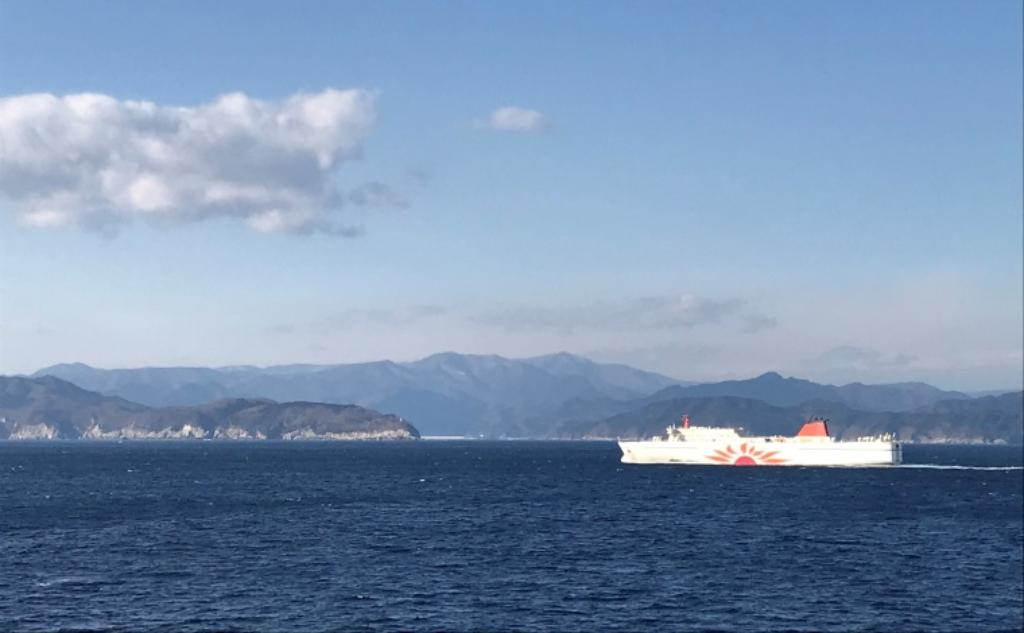PassengerShip: (605, 406, 909, 476)
